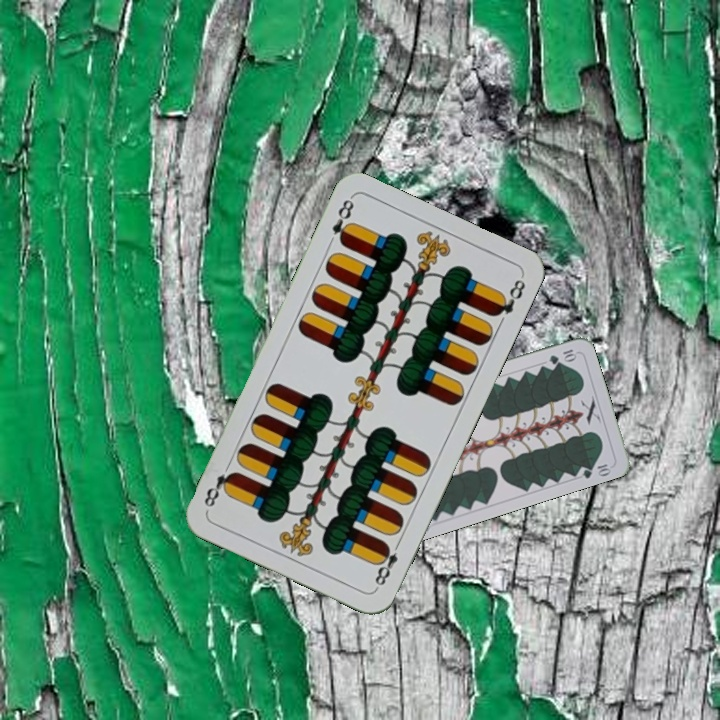E8: (370, 536, 404, 591), (328, 194, 357, 247)
G10: (545, 345, 579, 367)
